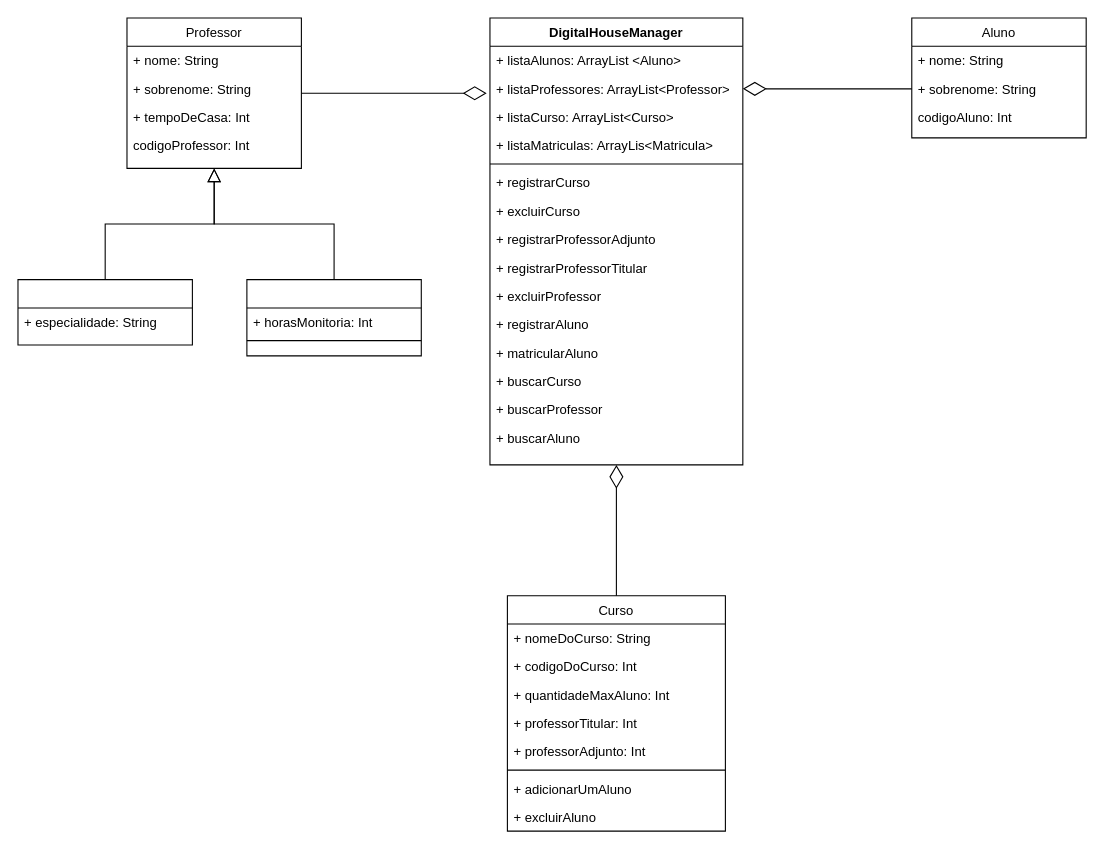
This 1104x849 diagram has some shape labels left out. Each missing label, with the box of its shape:
ProfessorAdjunto: (246, 278, 421, 356)
ProfessorTitular: (17, 278, 192, 345)
